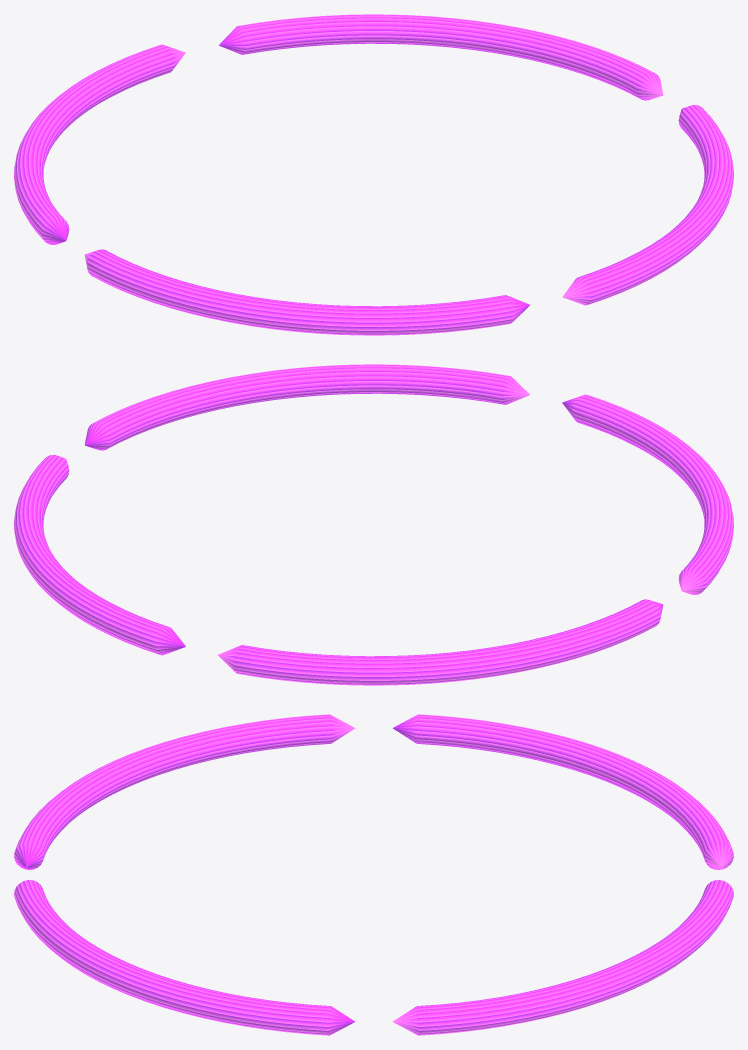
The model's file is Ring12.gltf.
The picture shows the model from 3 angles, top to bottom: view 1: azimuth 30°, elevation 25°; view 2: azimuth 150°, elevation 25°; view 3: azimuth 270°, elevation 25°; orthographic projection.
Parts seen in each view (by area): view 1: Object 1; view 2: Object 1; view 3: Object 1.
Boxes of the visible parts, bbox=[...] form: Object 1: bbox=[14, 14, 733, 335]; Object 1: bbox=[14, 364, 733, 685]; Object 1: bbox=[14, 714, 733, 1035].
Bounding box in the file's own units: 0.1448 × 0.006 × 0.1448.
Materials: 1 (1 with a texture image).
